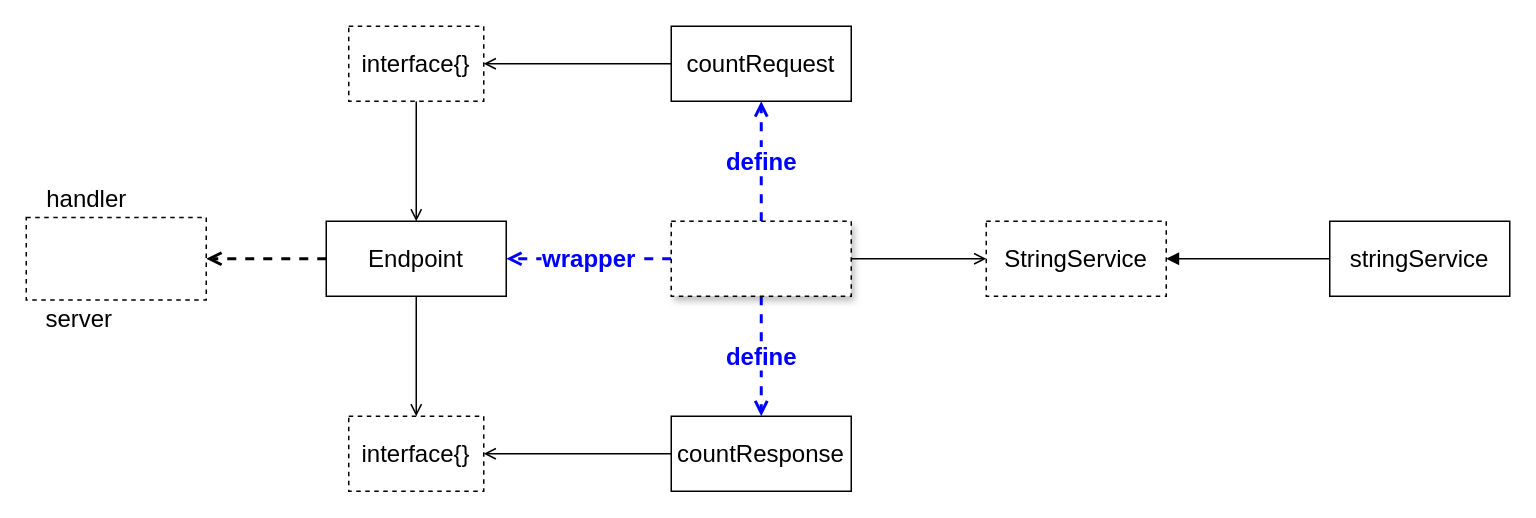
Some shapes in this 1536 by 518 pixel diagram are drawn without their labels. The centre of each missing label's shape, as x and y in pixels:
"Count" belongs at pixel 762 260.
"Transport" belongs at pixel 115 258.
